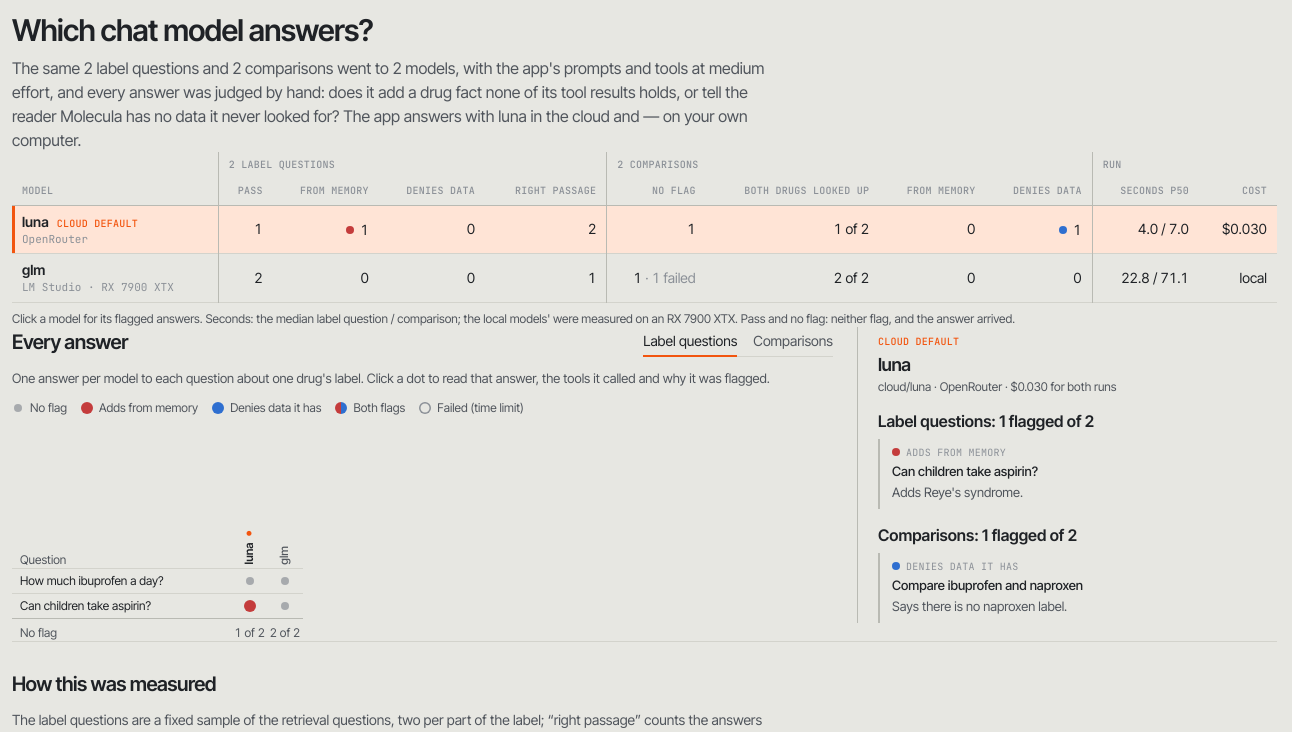
Test: ChatModelBenchmark › opens another model's flagged answers from the table
Click the button with aria-label "glm: open its flagged answers".
click(98, 278)  # box [22,260,174,296]
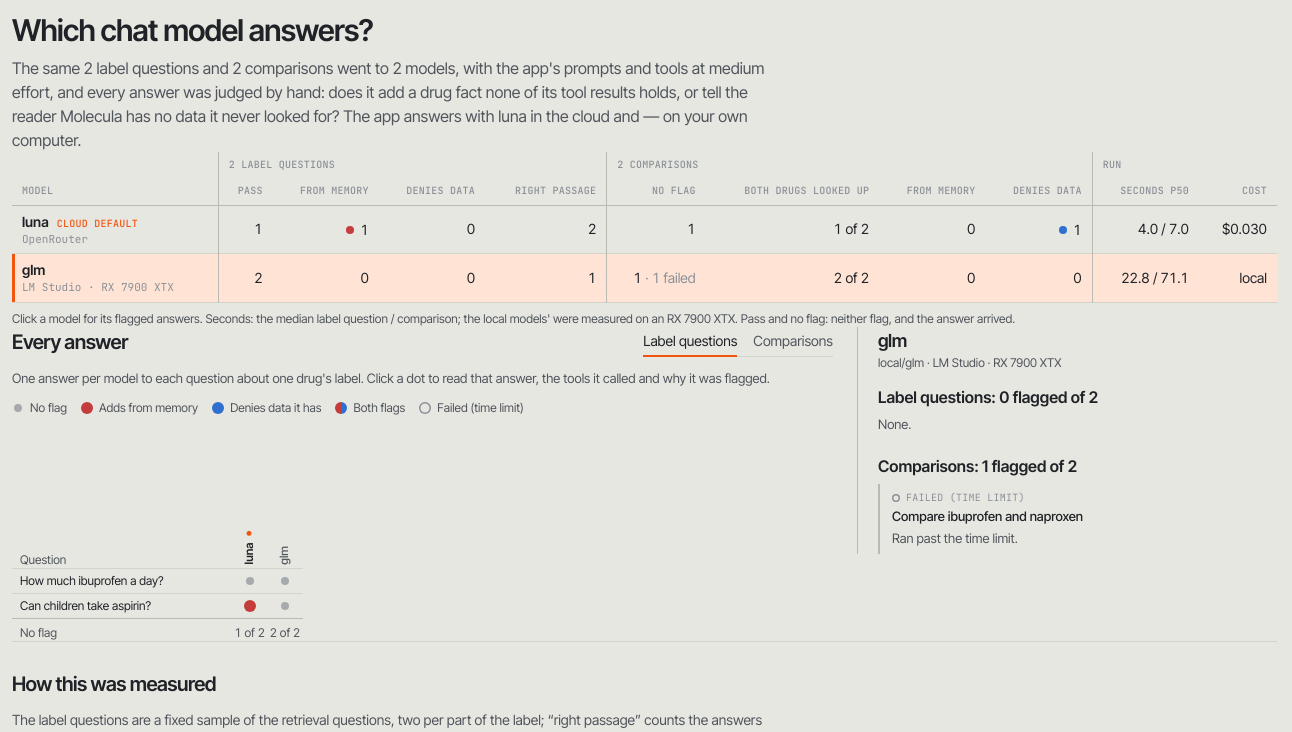
Check: the heading "Comparisons: 1 flagged of 2" is shown, box [878,456,1077,476]
Check: the heading "Label questions: 0 flagged of 2" is shown, box [878,387,1098,407]
